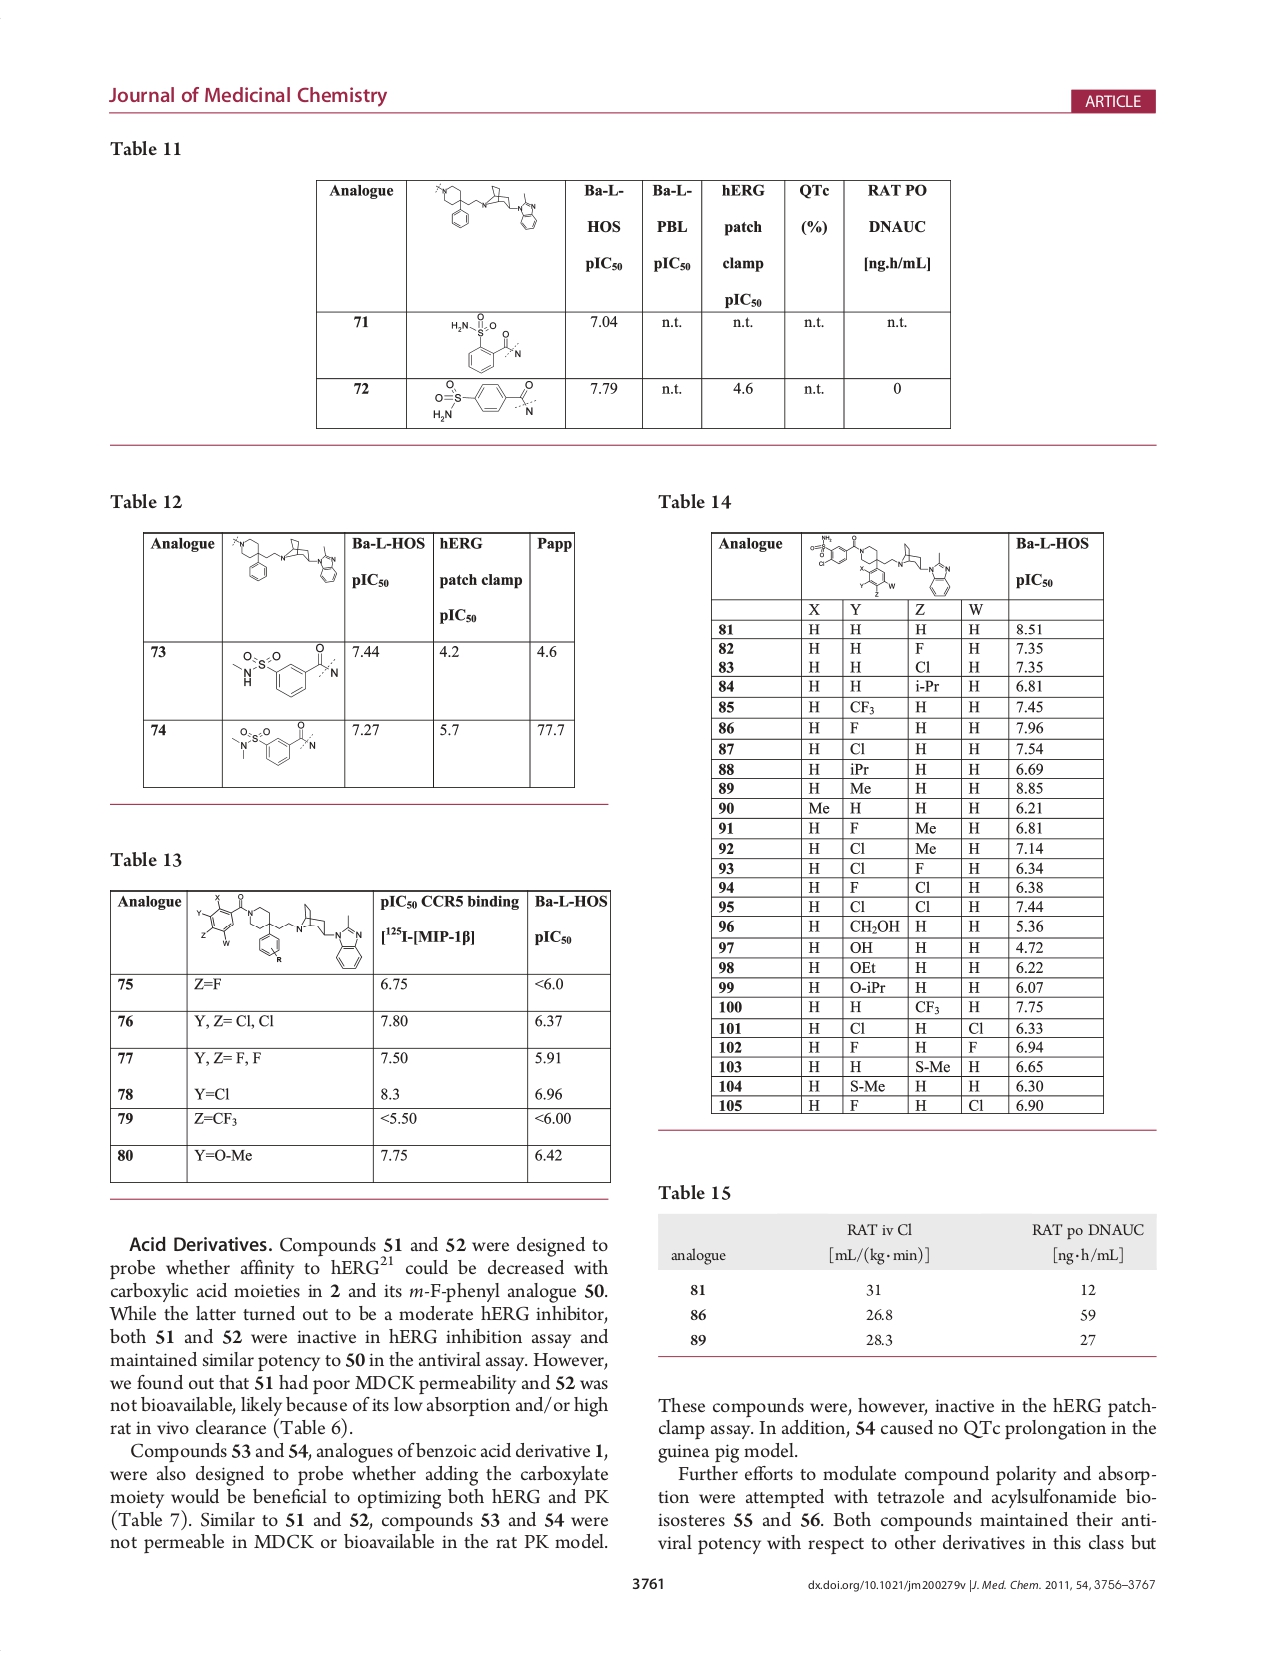exist_molecular: (194, 892, 367, 971), (809, 533, 953, 598), (230, 644, 340, 698), (230, 533, 340, 585), (432, 184, 539, 231), (449, 313, 523, 375), (432, 380, 537, 423), (230, 721, 318, 767)
